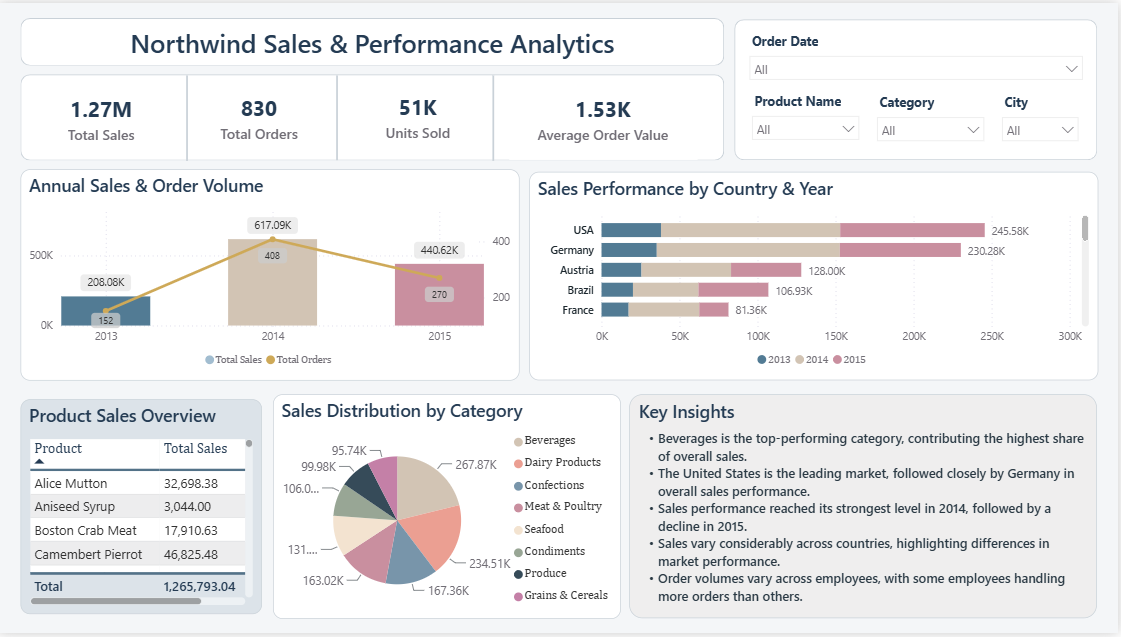

This screenshot's page, from the dashboard's own definition file:
{"tool":"powerbi","page":{"name":"Page 1","canvas":[1280,720],"ordinal":0},"visuals":[{"type":"group","id":"g1","title":"Group 6","box":[25.8,17.5,1231,163],"z":0},{"type":"cardVisual","fields":{"Data":["order_details.Total quantity"]},"box":[395.1,87.7,168.3,86.2],"z":0,"group":"g3"},{"type":"cardVisual","fields":{"Data":["order_details.Total orders"]},"box":[223.3,87.2,151.8,88],"z":1000,"group":"g3"},{"type":"pieChart","title":"Sales Distribution by Category","fields":{"Category":["categories.categoryName"],"Y":["order_details.Total sales"]},"box":[314.1,446.8,397.6,256.4],"z":1000},{"type":"cardVisual","fields":{"Data":["order_details.Total sales"]},"box":[32.9,88.8,170,88.6],"z":2000,"group":"g3"},{"type":"barChart","title":"Sales Performance by Country & Year","fields":{"Category":["customers.country"],"Y":["order_details.Total sales"],"Series":["orders.Year"]},"box":[607,192.9,650,238.6],"z":2000},{"type":"cardVisual","fields":{"Data":["order_details.Average Order Value"]},"box":[583.7,84.9,214.9,93.8],"z":3000,"group":"g3"},{"type":"lineClusteredColumnComboChart","title":"Annual Sales & Order Volume","fields":{"Category":["orders.orderDate.Variation.Date Hierarchy.Year","orders.orderDate.Variation.Date Hierarchy.Quarter","orders.orderDate.Variation.Date Hierarchy.Month","orders.orderDate.Variation.Date Hierarchy.Day"],"Y":["order_details.Total sales"],"Y2":["order_details.Total orders"]},"box":[25.7,190,570,241.4],"z":3000},{"type":"shape","box":[25.8,17.5,804.3,54.6],"z":4000,"group":"g1"},{"type":"shape","box":[381.6,82.7,12.1,97],"z":4000,"group":"g3"},{"type":"tableEx","title":"Product Sales Overview","fields":{"Values":["products.productName","order_details.Total sales"]},"box":[25.7,452.9,275.7,245.7],"z":4000},{"type":"shape","box":[25.8,81.8,804.3,98.7],"z":5000,"group":"g4"},{"type":"textbox","title":"Key Insights","box":[721.8,446.7,534.6,256],"z":5000},{"type":"group","id":"g2","title":"Group 2","box":[842,19.3,414.8,161],"z":6000,"group":"g1"},{"type":"group","id":"g3","title":"Group 1","box":[32.9,82.7,765.8,97.6],"z":7000,"group":"g4"},{"type":"group","id":"g4","title":"Group 5","box":[25.8,81.8,804.3,98.7],"z":8001,"group":"g1"},{"type":"shape","box":[842,19.3,414.8,161],"z":10000,"group":"g5"},{"type":"shape","box":[209.4,82.7,12.1,97.6],"z":10000,"group":"g3"},{"type":"slicer","fields":{"Values":["orders.orderDate"]},"box":[848.8,28.6,400.9,71.9],"z":11000,"group":"g6"},{"type":"shape","box":[559.9,82.8,12.1,97.6],"z":11000,"group":"g3"},{"type":"slicer","fields":{"Values":["products.productName"]},"box":[851.7,97.5,142.7,72.5],"z":12000,"group":"g6"},{"type":"slicer","fields":{"Values":["categories.categoryName"]},"box":[994.5,98.3,142.7,72.5],"z":13000,"group":"g6"},{"type":"slicer","fields":{"Values":["customers.city"]},"box":[1136.7,98.8,107.8,72.5],"z":14000,"group":"g6"},{"type":"group","id":"g5","title":"Group 4","box":[842,19.3,414.8,161],"z":14002,"group":"g2"},{"type":"group","id":"g6","title":"Group 3","box":[848.8,28.6,401,142.4],"z":14002,"group":"g5"}]}

Visuals, with their boxes in screenshot pixels (x1, y1, x2, y2), scaled from the page's 1280x720 canvas onto the 1121x637 screenshot:
"Group 6" group: 23 15 1101 160
cardVisual - order_details.Total quantity: 346 78 493 154
cardVisual - order_details.Total orders: 196 77 329 155
"Sales Distribution by Category" pieChart: 275 395 623 622
cardVisual - order_details.Total sales: 29 79 178 157
"Sales Performance by Country & Year" barChart: 532 171 1101 382
cardVisual - order_details.Average Order Value: 511 75 699 158
"Annual Sales & Order Volume" lineClusteredColumnComboChart: 23 168 522 382
shape: 23 15 727 64
shape: 334 73 345 159
"Product Sales Overview" tableEx: 23 401 264 618
shape: 23 72 727 160
"Key Insights" textbox: 632 395 1100 622
"Group 2" group: 737 17 1101 160
"Group 1" group: 29 73 699 160
"Group 5" group: 23 72 727 160
shape: 737 17 1101 160
shape: 183 73 194 160
slicer - orders.orderDate: 743 25 1094 89
shape: 490 73 501 160
slicer - products.productName: 746 86 871 150
slicer - categories.categoryName: 871 87 996 151
slicer - customers.city: 996 87 1090 152
"Group 4" group: 737 17 1101 160
"Group 3" group: 743 25 1095 151
